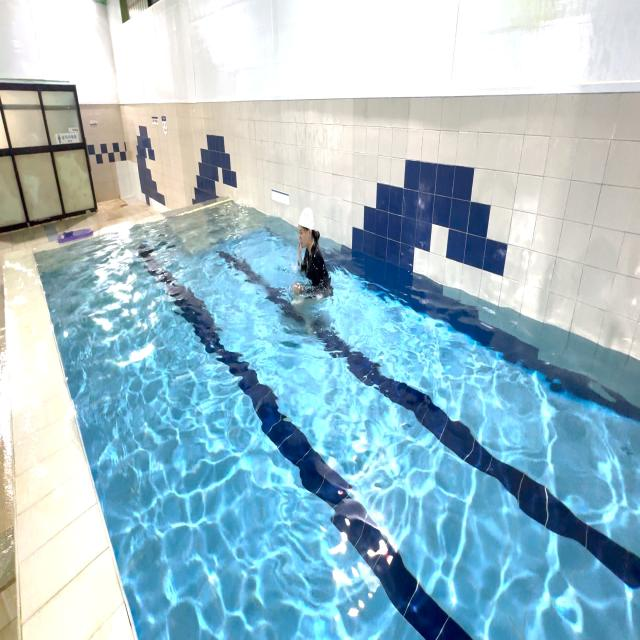Swimming: (283, 204, 335, 308)
